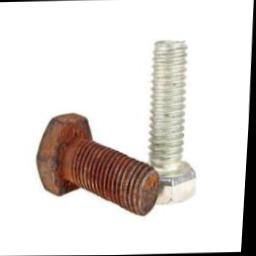Corroded-Bolt: (38, 114, 163, 217)
Non-corroded-Bolts: (150, 40, 197, 205)
